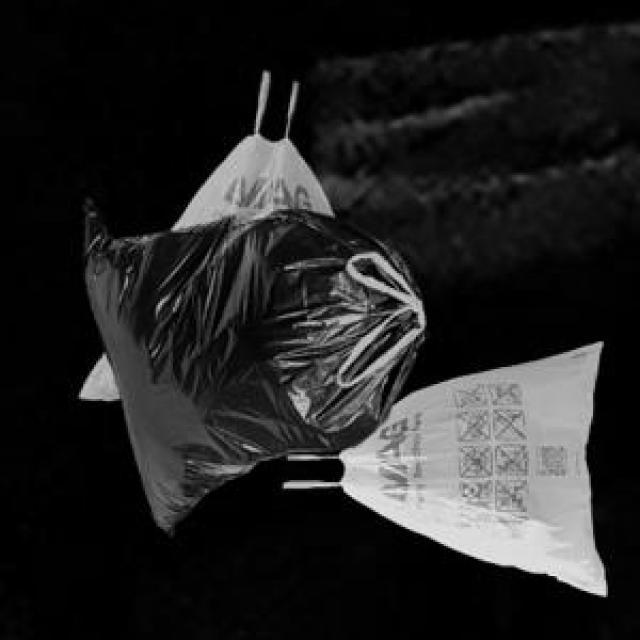miscellaneous trash: (79, 195, 425, 531)
